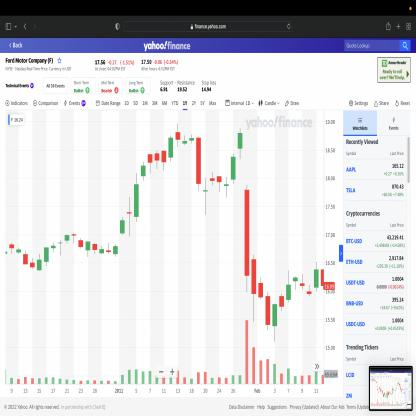Bearish: 3 Black Crows: (250, 252, 271, 333)
Bearish: Kicker: (236, 126, 251, 294)
